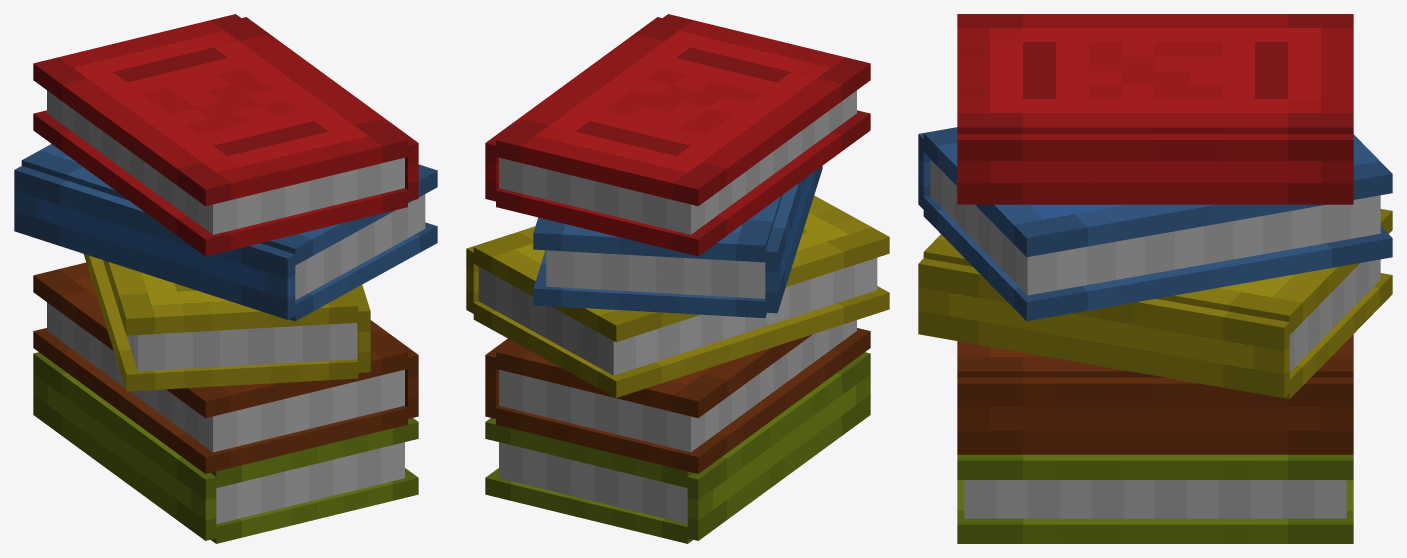
Rendered from books.glb.
The picture shows the model from 3 angles, left to right: view 1: azimuth 30°, elevation 25°; view 2: azimuth 150°, elevation 25°; view 3: azimuth 270°, elevation 25°; orthographic projection. The views are drawn at different scales.
Visible parts, largest first — view 1: a97b5972-1885-5dfc-1cd4-23fef182796c_3, aad3fd4e-fad0-5f00-a43b-05c0d2db1c12_4, c6a802c8-fc27-4c70-d7da-d765d4f95609_12, d42e0b9d-06c6-1f54-2575-b4977d464260_17, c062d236-9276-9fc5-5c4b-7f556caee893_2, 98393dd3-45bb-6625-7c41-31f83be280f9_1, 121edf21-6fa9-25fc-c6bd-96b1828d26e6_19, 9303851b-aaac-106d-0ee0-b31c8177bbda_10, a7977a6c-cfcc-69fb-a5aa-bcc6b2773263_11, 13b3a0e8-063e-8dde-11ce-2f9e087bc196_18, 5b12029c-da89-2c89-cbd8-f8571af06cd5_15, 60aa928b-8cf8-e269-2b2d-ef328b42e818_9 (+8 smaller); view 2: a97b5972-1885-5dfc-1cd4-23fef182796c_3, c6a802c8-fc27-4c70-d7da-d765d4f95609_12, 9303851b-aaac-106d-0ee0-b31c8177bbda_10, d42e0b9d-06c6-1f54-2575-b4977d464260_17, a7977a6c-cfcc-69fb-a5aa-bcc6b2773263_11, c062d236-9276-9fc5-5c4b-7f556caee893_2, 60aa928b-8cf8-e269-2b2d-ef328b42e818_9, 121edf21-6fa9-25fc-c6bd-96b1828d26e6_19, 98393dd3-45bb-6625-7c41-31f83be280f9_1, 0998e9b5-ea0e-b2e1-f5ab-27cb0c6867f7_6, 5b12029c-da89-2c89-cbd8-f8571af06cd5_15, 13b3a0e8-063e-8dde-11ce-2f9e087bc196_18 (+8 smaller); view 3: a97b5972-1885-5dfc-1cd4-23fef182796c_3, f123fd4e-85ce-8e2b-407d-d309e4c0e66a_16, 01b6ab78-22b9-0d7b-1933-5f1de455909f_0, b53aafe1-0edb-cdca-2f83-a37c1f2aae0b_8, 0998e9b5-ea0e-b2e1-f5ab-27cb0c6867f7_6, 5b12029c-da89-2c89-cbd8-f8571af06cd5_15, ab05ee45-c5ef-e0cb-41d3-7a9f9baed5b3_7, 63222293-9a0a-47c7-262a-eec22627751e_5, 63e5bf49-cf2e-3ee5-dfdc-a9b152449532_14, 55fe01e9-6ae7-f583-75c4-5840f4fc2684_13, a7977a6c-cfcc-69fb-a5aa-bcc6b2773263_11, 13b3a0e8-063e-8dde-11ce-2f9e087bc196_18 (+3 smaller).
Boxes of the visible parts, x1=… form: a97b5972-1885-5dfc-1cd4-23fef182796c_3: x1=33, y1=14, x2=407, y2=206; aad3fd4e-fad0-5f00-a43b-05c0d2db1c12_4: x1=14, y1=166, x2=295, y2=319; c6a802c8-fc27-4c70-d7da-d765d4f95609_12: x1=33, y1=352, x2=216, y2=540; d42e0b9d-06c6-1f54-2575-b4977d464260_17: x1=47, y1=302, x2=404, y2=452; c062d236-9276-9fc5-5c4b-7f556caee893_2: x1=47, y1=90, x2=404, y2=234; 98393dd3-45bb-6625-7c41-31f83be280f9_1: x1=33, y1=110, x2=407, y2=256; 121edf21-6fa9-25fc-c6bd-96b1828d26e6_19: x1=33, y1=328, x2=407, y2=473; 9303851b-aaac-106d-0ee0-b31c8177bbda_10: x1=127, y1=323, x2=357, y2=371; a7977a6c-cfcc-69fb-a5aa-bcc6b2773263_11: x1=103, y1=260, x2=358, y2=335; 13b3a0e8-063e-8dde-11ce-2f9e087bc196_18: x1=33, y1=262, x2=407, y2=418; 5b12029c-da89-2c89-cbd8-f8571af06cd5_15: x1=216, y1=442, x2=404, y2=523; 60aa928b-8cf8-e269-2b2d-ef328b42e818_9: x1=83, y1=254, x2=358, y2=391; a97b5972-1885-5dfc-1cd4-23fef182796c_3: x1=496, y1=14, x2=870, y2=206; c6a802c8-fc27-4c70-d7da-d765d4f95609_12: x1=687, y1=352, x2=870, y2=540; 9303851b-aaac-106d-0ee0-b31c8177bbda_10: x1=478, y1=258, x2=877, y2=375; d42e0b9d-06c6-1f54-2575-b4977d464260_17: x1=499, y1=320, x2=856, y2=452; a7977a6c-cfcc-69fb-a5aa-bcc6b2773263_11: x1=473, y1=195, x2=889, y2=342; c062d236-9276-9fc5-5c4b-7f556caee893_2: x1=499, y1=90, x2=856, y2=234; 60aa928b-8cf8-e269-2b2d-ef328b42e818_9: x1=473, y1=286, x2=889, y2=397; 121edf21-6fa9-25fc-c6bd-96b1828d26e6_19: x1=496, y1=328, x2=870, y2=473; 98393dd3-45bb-6625-7c41-31f83be280f9_1: x1=496, y1=110, x2=870, y2=256; 0998e9b5-ea0e-b2e1-f5ab-27cb0c6867f7_6: x1=546, y1=250, x2=765, y2=298; 5b12029c-da89-2c89-cbd8-f8571af06cd5_15: x1=499, y1=442, x2=687, y2=523; 13b3a0e8-063e-8dde-11ce-2f9e087bc196_18: x1=496, y1=334, x2=812, y2=418; a97b5972-1885-5dfc-1cd4-23fef182796c_3: x1=957, y1=14, x2=1353, y2=133; f123fd4e-85ce-8e2b-407d-d309e4c0e66a_16: x1=957, y1=377, x2=1353, y2=454; 01b6ab78-22b9-0d7b-1933-5f1de455909f_0: x1=957, y1=134, x2=1353, y2=203; b53aafe1-0edb-cdca-2f83-a37c1f2aae0b_8: x1=918, y1=258, x2=1289, y2=398; 0998e9b5-ea0e-b2e1-f5ab-27cb0c6867f7_6: x1=930, y1=159, x2=1380, y2=295; 5b12029c-da89-2c89-cbd8-f8571af06cd5_15: x1=964, y1=480, x2=1346, y2=518; ab05ee45-c5ef-e0cb-41d3-7a9f9baed5b3_7: x1=923, y1=127, x2=1392, y2=256; 63222293-9a0a-47c7-262a-eec22627751e_5: x1=923, y1=196, x2=1392, y2=321; 63e5bf49-cf2e-3ee5-dfdc-a9b152449532_14: x1=957, y1=480, x2=1353, y2=543; 55fe01e9-6ae7-f583-75c4-5840f4fc2684_13: x1=957, y1=454, x2=1353, y2=479; a7977a6c-cfcc-69fb-a5aa-bcc6b2773263_11: x1=923, y1=209, x2=1392, y2=334; 13b3a0e8-063e-8dde-11ce-2f9e087bc196_18: x1=957, y1=334, x2=1353, y2=377.
Size of the model in its own units: 14.6 by 16 by 16.76.
1 material, 1 textured.
